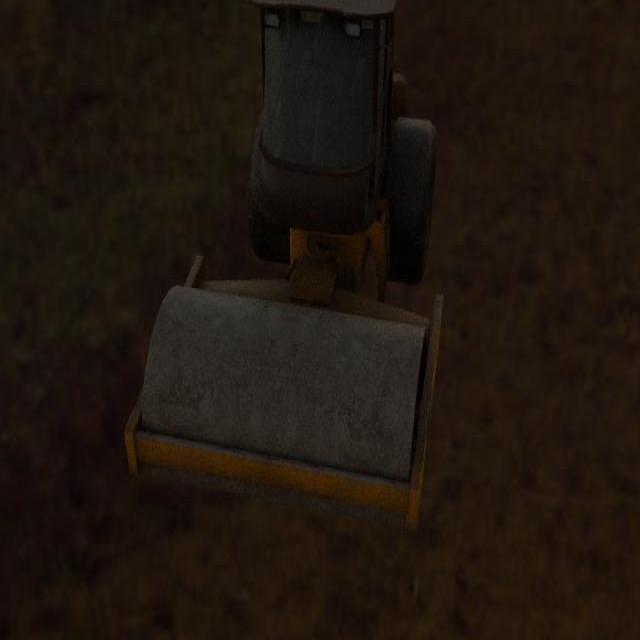Roller: (124, 0, 443, 533)
